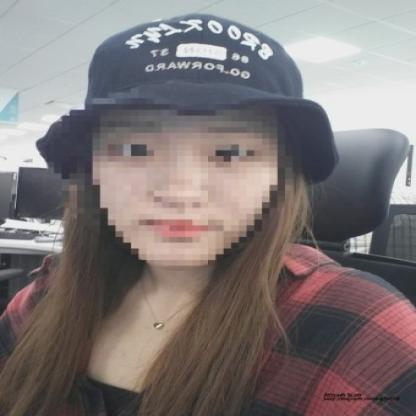hat: (29, 10, 344, 191)
